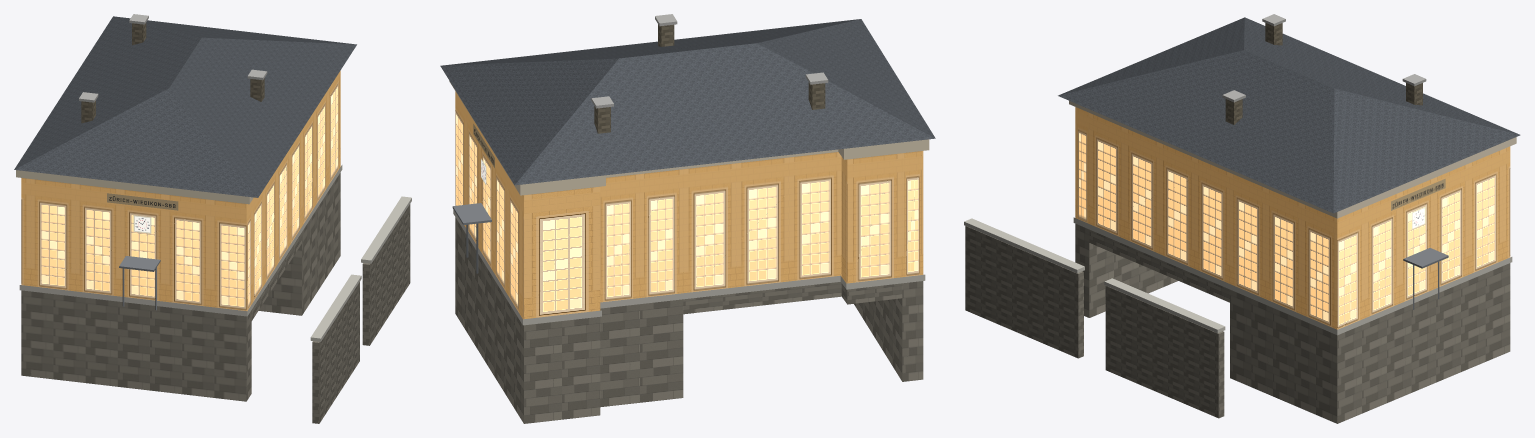
The model's file is k93_wiedikon.glb.
The picture shows the model from 3 angles, left to right: view 1: azimuth 30°, elevation 25°; view 2: azimuth 150°, elevation 25°; view 3: azimuth 270°, elevation 25°; orthographic projection. The views are drawn at different scales.
Visible parts, largest first — view 1: roof, base, walls, trim, frieze; view 2: walls, roof, base, trim; view 3: base, walls, roof, trim, frieze.
Boxes of the visible parts, x1,y1,x2,y2 form: roof: (14,16,356,197); base: (21,22,410,423); walls: (21,71,340,310); trim: (16,14,411,341); frieze: (107,193,178,210); walls: (455,91,923,319); roof: (440,19,935,185); base: (455,24,923,423); trim: (449,14,929,325); base: (965,23,1510,423); walls: (1075,107,1510,329); roof: (1058,17,1520,213); trim: (964,14,1516,335); frieze: (1391,179,1445,210).
Size of the model in its own units: 41.88 by 26.3 by 50.24.
7 materials, 6 textured.
